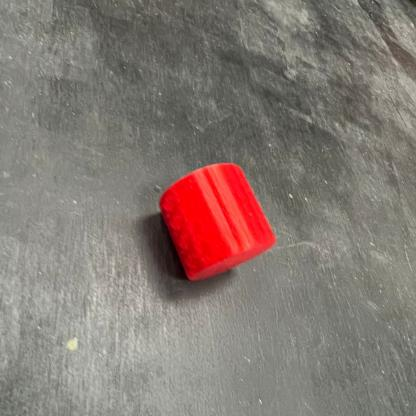red cylinder: (157, 160, 280, 284)
